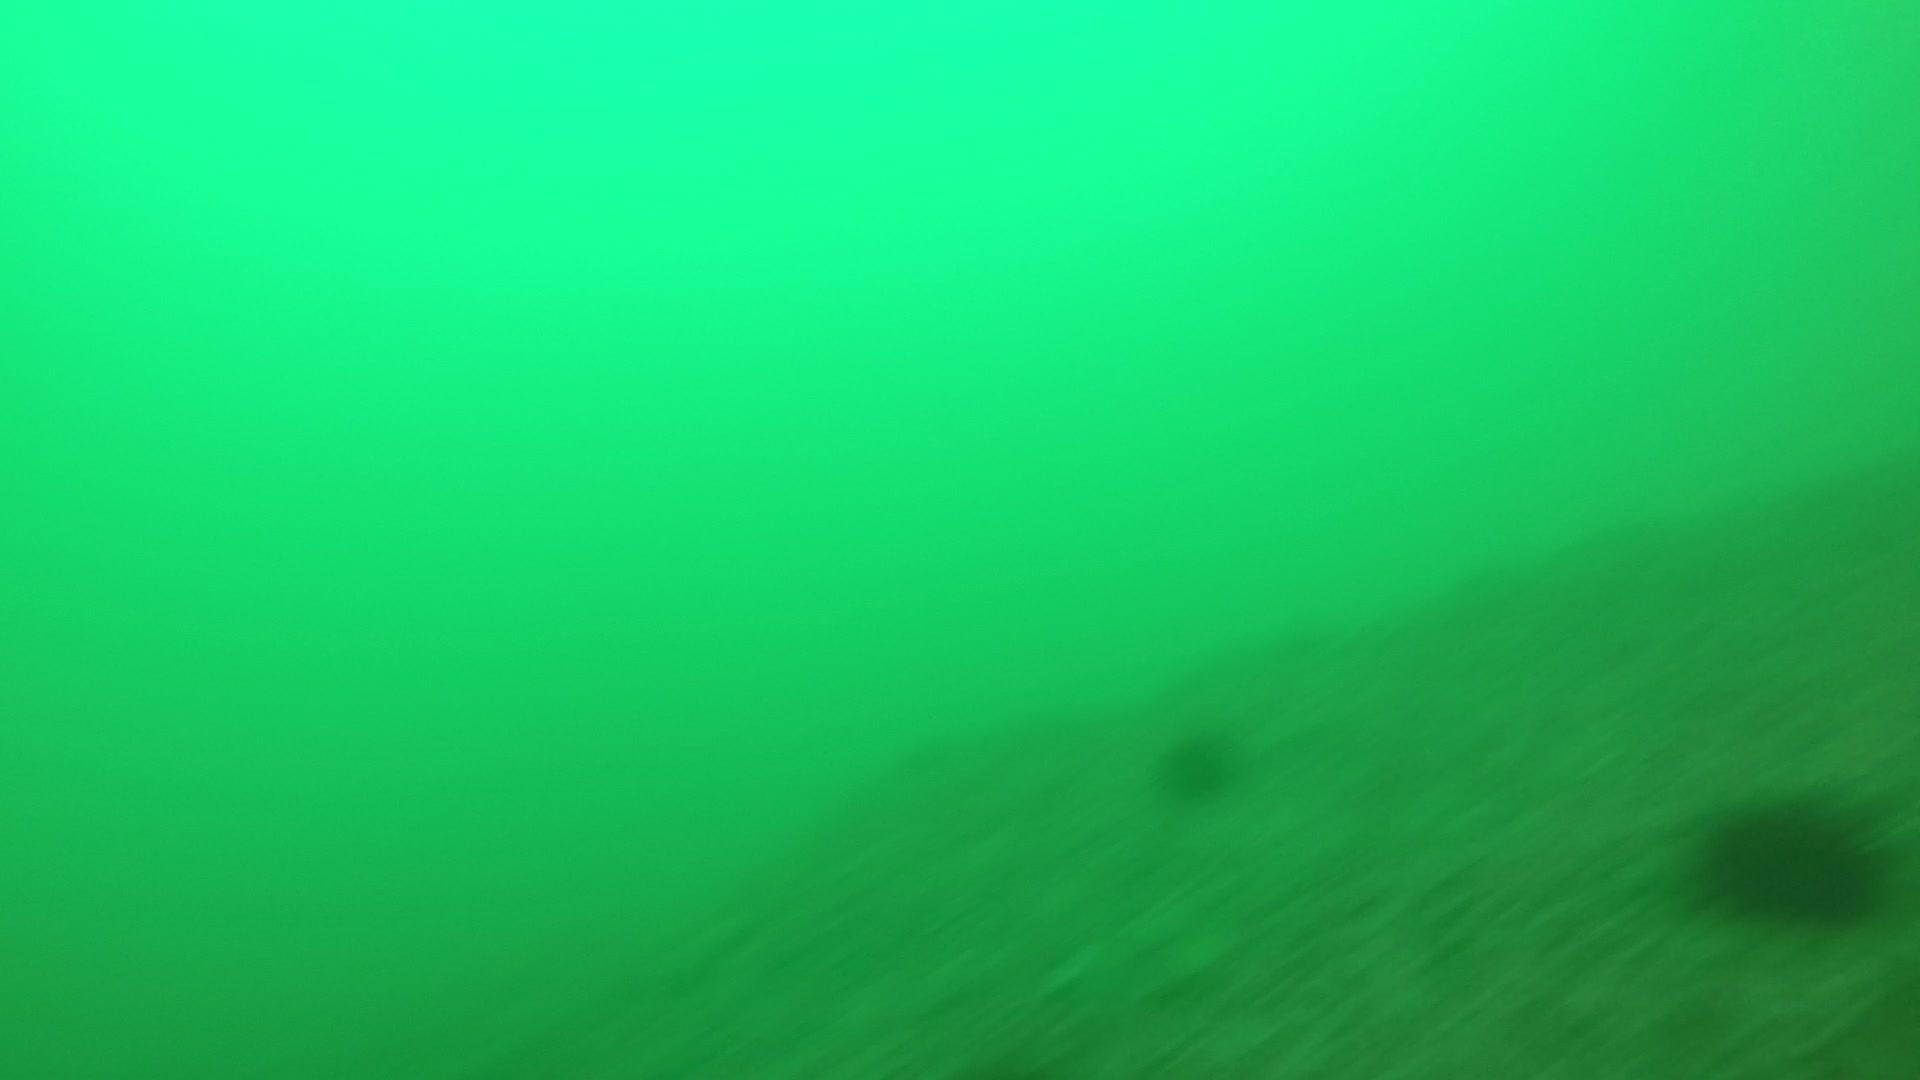echinus: (1689, 787, 1896, 934), (1151, 719, 1244, 804)
